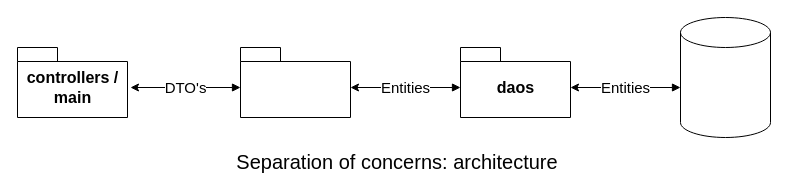
Some shapes in this 788 by 195 pixel diagram are drawn without their labels. The shapes that lost their labels are listed below. From the top down, each one's box as (x1, y1, x2, y2) in pixels, then its label:
(240, 46, 350, 118): services
(680, 16, 770, 138): Postgres
